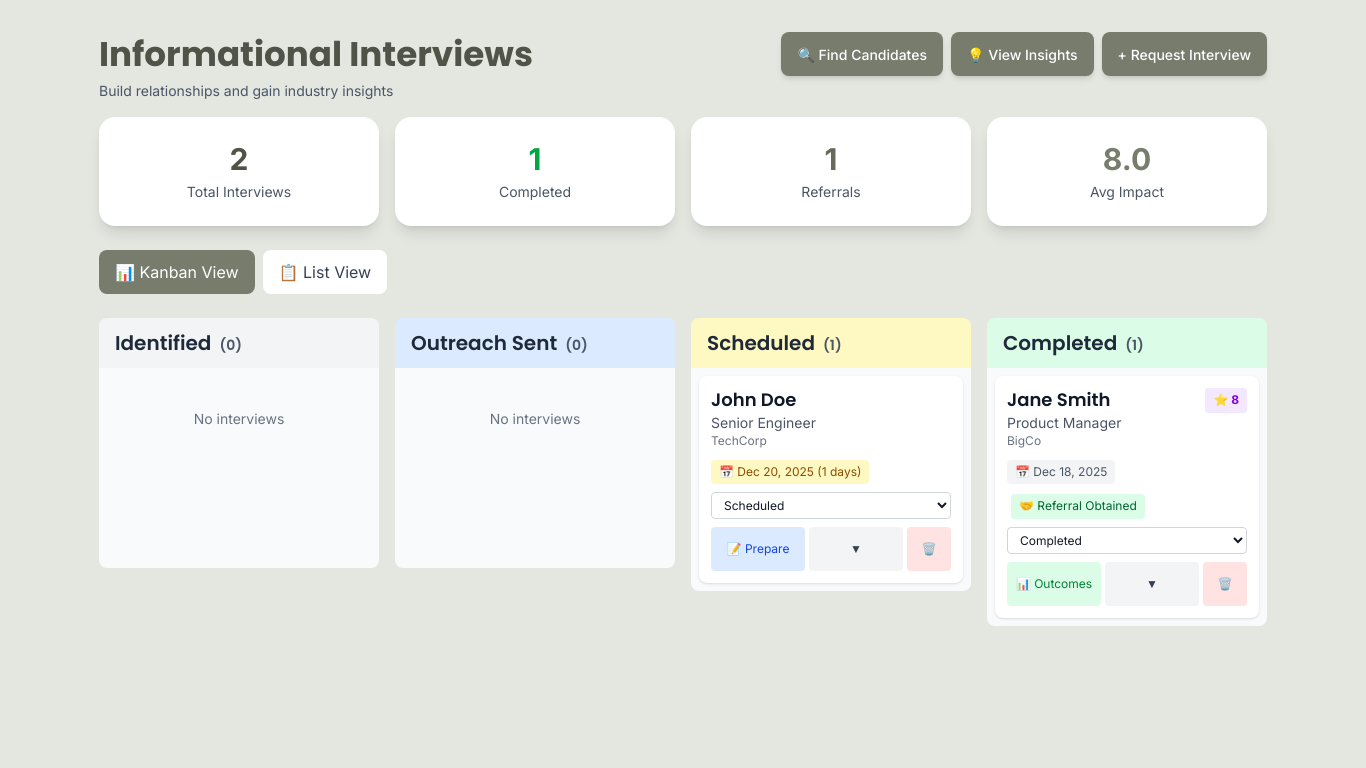
Test case: InformationalInterviewsPage › opens candidate suggestion modal when button is clicked
The width and height of the screenshot is (1366, 768).
Click the button "🔍 Find Candidates" at {"x": 862, "y": 54}, box [781,32,943,76]
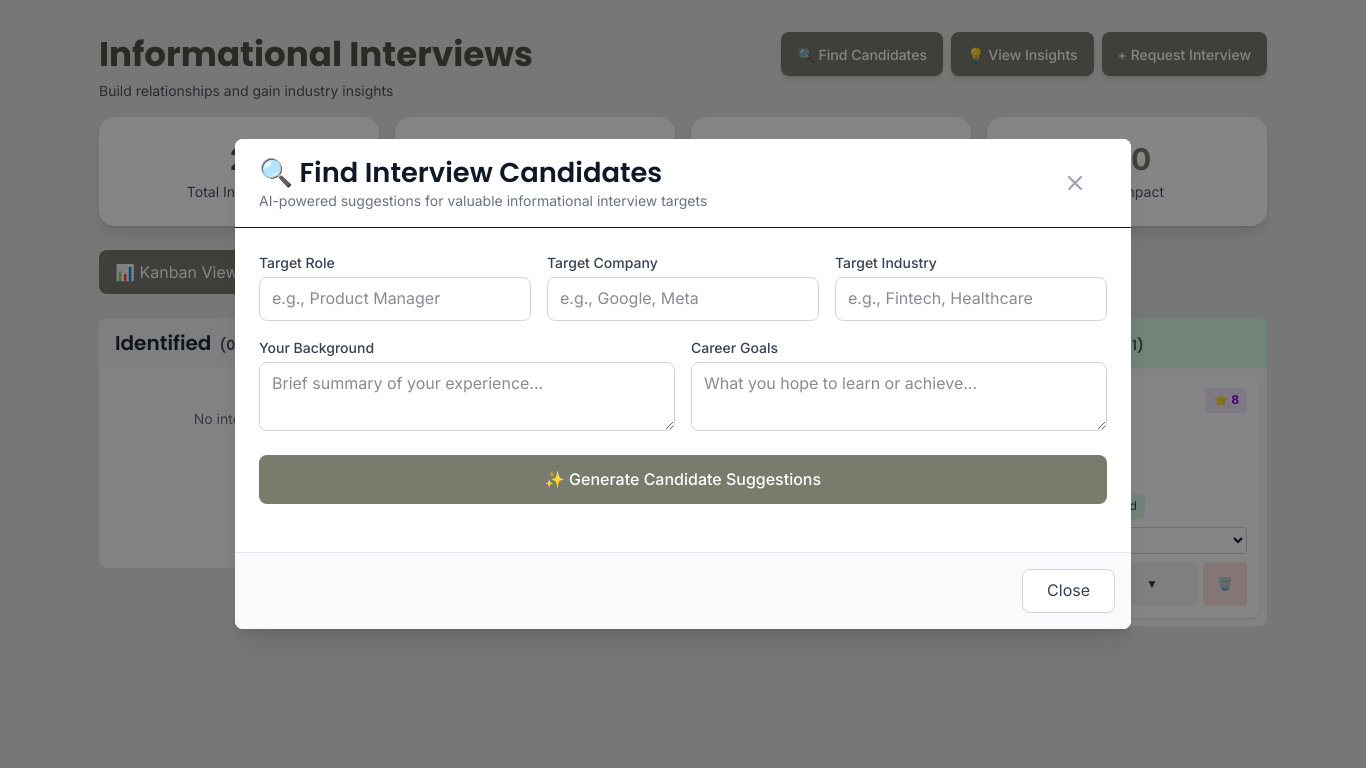
Now the heading "🔍 Find Interview Candidates" is shown, box [259,155,707,190]
